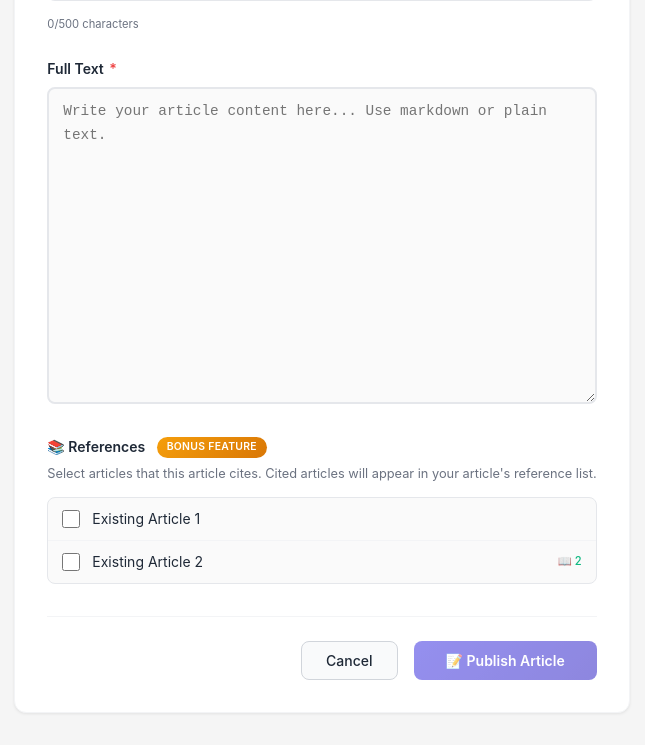
Test case: AddArticlePage › Reference Selection › should show selected references count
This screenshot has width=645, height=745.
(page scrolled)
Expected: the text "📚 References Bonus Feature" is shown, [47,437,267,458]
// Click first checkbox
What coordinates should you click on to do the following:
click the checkbox labelled "Existing Article 1"
I would click on:
 (71, 519)
Its box is [62,510,80,528].
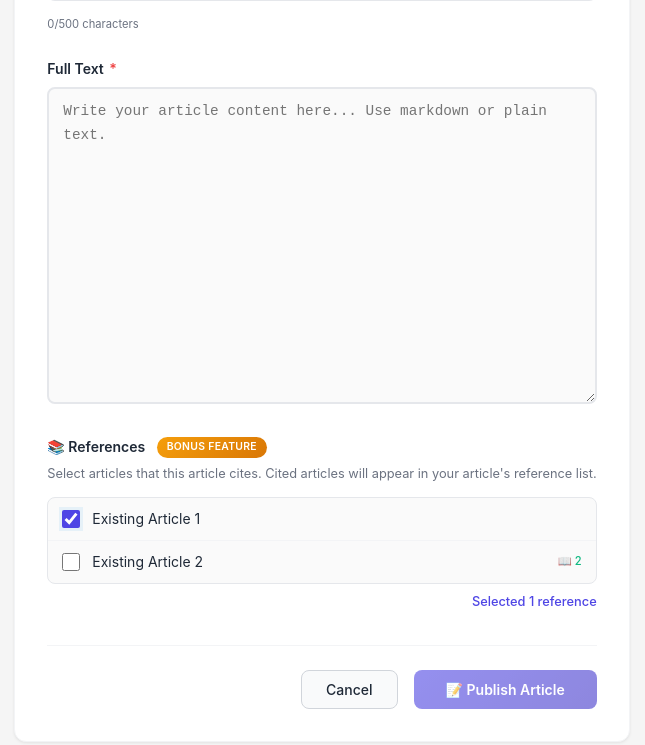
Now the text "Selected 1 reference" is shown, box [472,594,597,609]
